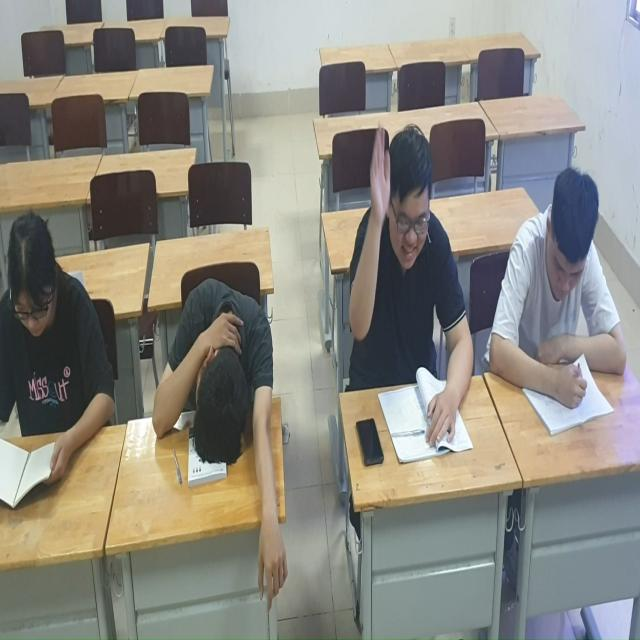raise_hand: (345, 94, 480, 474)
read: (485, 156, 635, 459), (1, 204, 119, 523)
sleep: (142, 280, 294, 611)
